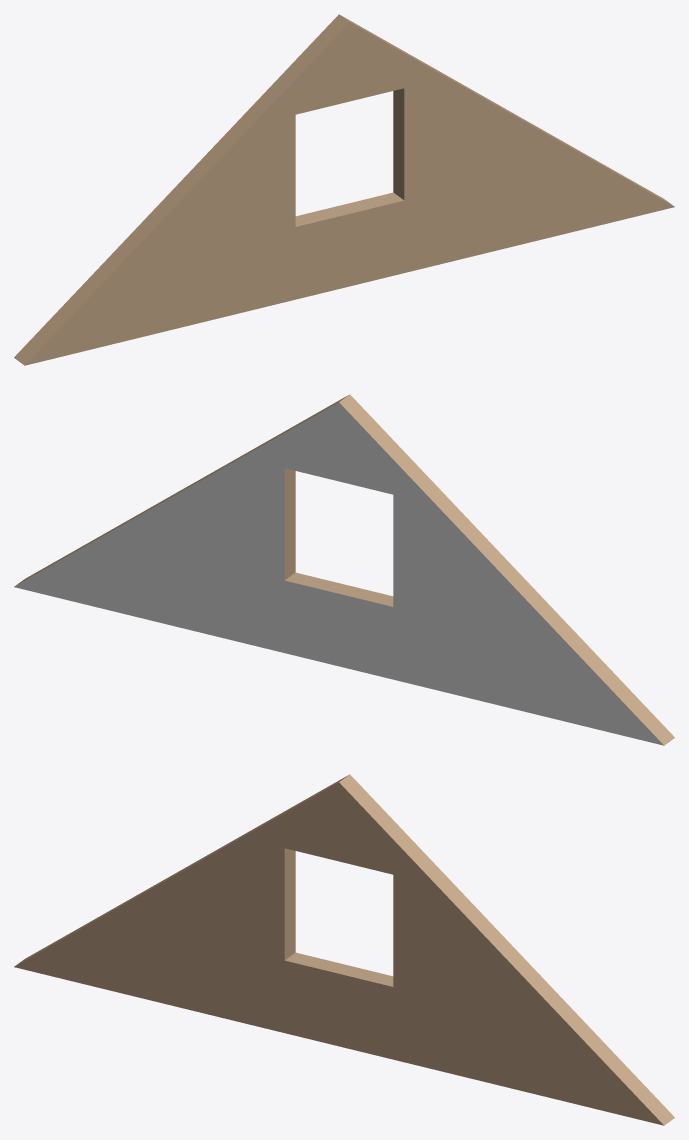
File: Wall1_C2_17.fbx
3 views of the same model, one above another, from view 1: azimuth 30°, elevation 25°; view 2: azimuth 150°, elevation 25°; view 3: azimuth 330°, elevation 25° (orthographic).
Visible parts, largest first — view 1: Wall1_C2_17; view 2: Wall1_C2_17; view 3: Wall1_C2_17.
Part boxes in pixels (x1,y1,x2,y2): Wall1_C2_17: (14,14,674,365); Wall1_C2_17: (14,394,674,745); Wall1_C2_17: (14,774,674,1125).
Size of the model in its own units: 515 by 200 by 15.
